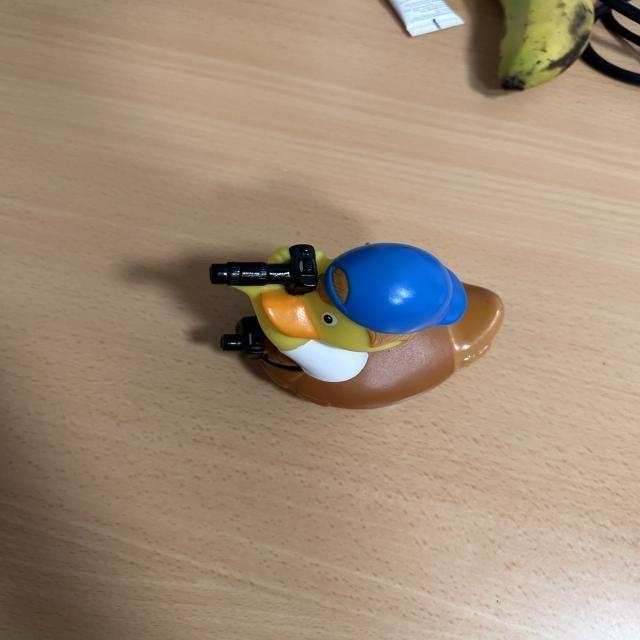rubber-duck: (209, 242, 502, 406)
